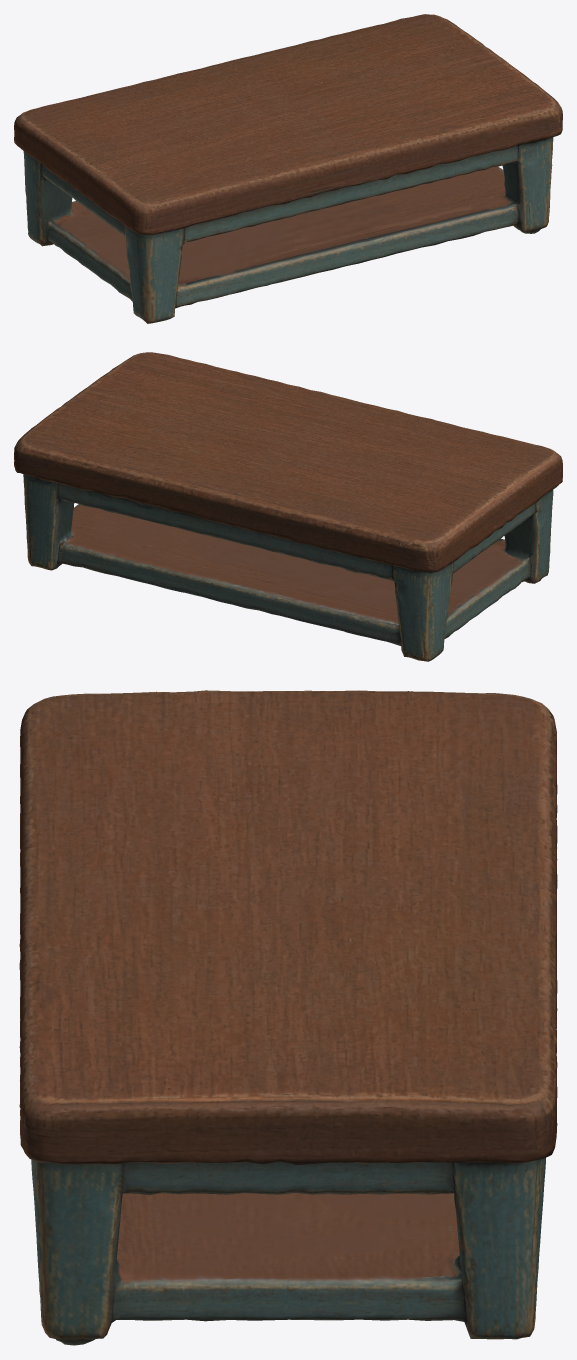
The model's file is Furn_CoffeeTable.fbx.
3 renders of one model, top to bottom at view 1: azimuth 30°, elevation 25°; view 2: azimuth 150°, elevation 25°; view 3: azimuth 270°, elevation 25°, orthographic. The views are drawn at different scales.
Visible parts, largest first — view 1: texture_mapping; view 2: texture_mapping; view 3: texture_mapping.
Boxes of the visible parts, bbox=[...] form: texture_mapping: bbox=[14, 14, 562, 323]; texture_mapping: bbox=[14, 352, 562, 661]; texture_mapping: bbox=[19, 690, 557, 1345].
Bounding box in the file's own units: 1 × 0.5429 × 0.294.
Materials: 1 (1 with a texture image).
